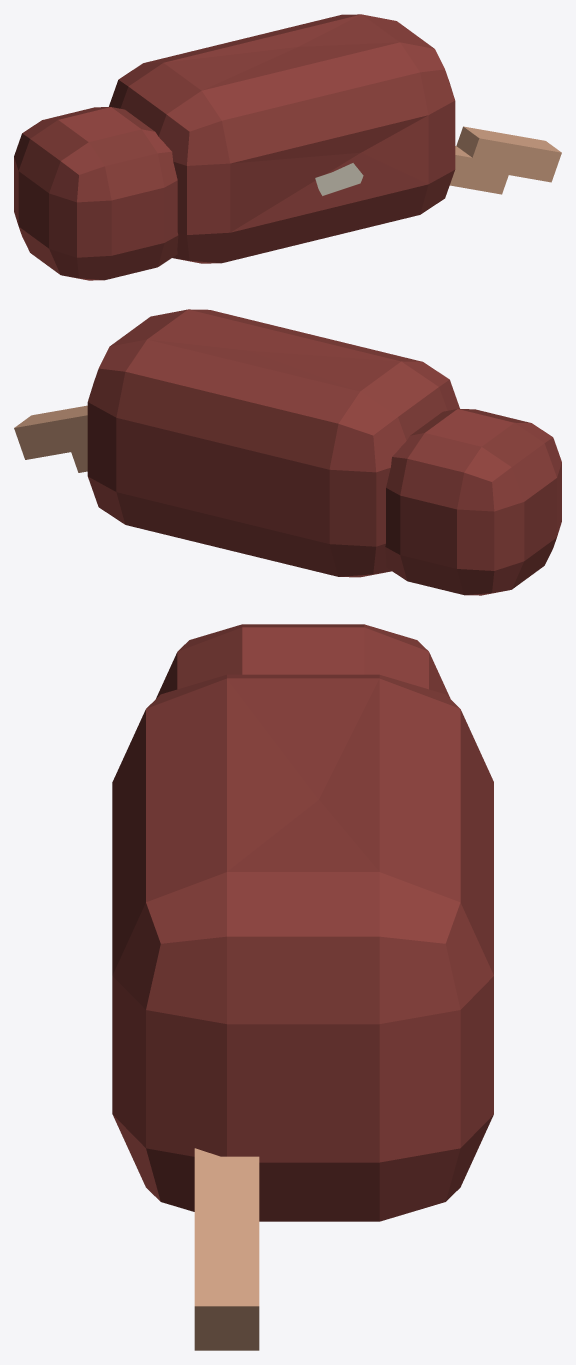
File: meat_raw_krolik_idle.glb
The picture shows the model from 3 angles, top to bottom: view 1: azimuth 30°, elevation 25°; view 2: azimuth 150°, elevation 25°; view 3: azimuth 270°, elevation 25°; orthographic projection. The views are drawn at different scales.
Parts seen in each view (by area): view 1: meat_raw_krolik_idle; view 2: meat_raw_krolik_idle; view 3: meat_raw_krolik_idle.
Boxes of the visible parts, bbox=[...] form: meat_raw_krolik_idle: bbox=[14, 14, 561, 280]; meat_raw_krolik_idle: bbox=[14, 309, 561, 595]; meat_raw_krolik_idle: bbox=[112, 624, 493, 1350].
Size of the model in its own units: 0.1516 by 0.05 by 0.054.
Materials: 1 (1 with a texture image).
